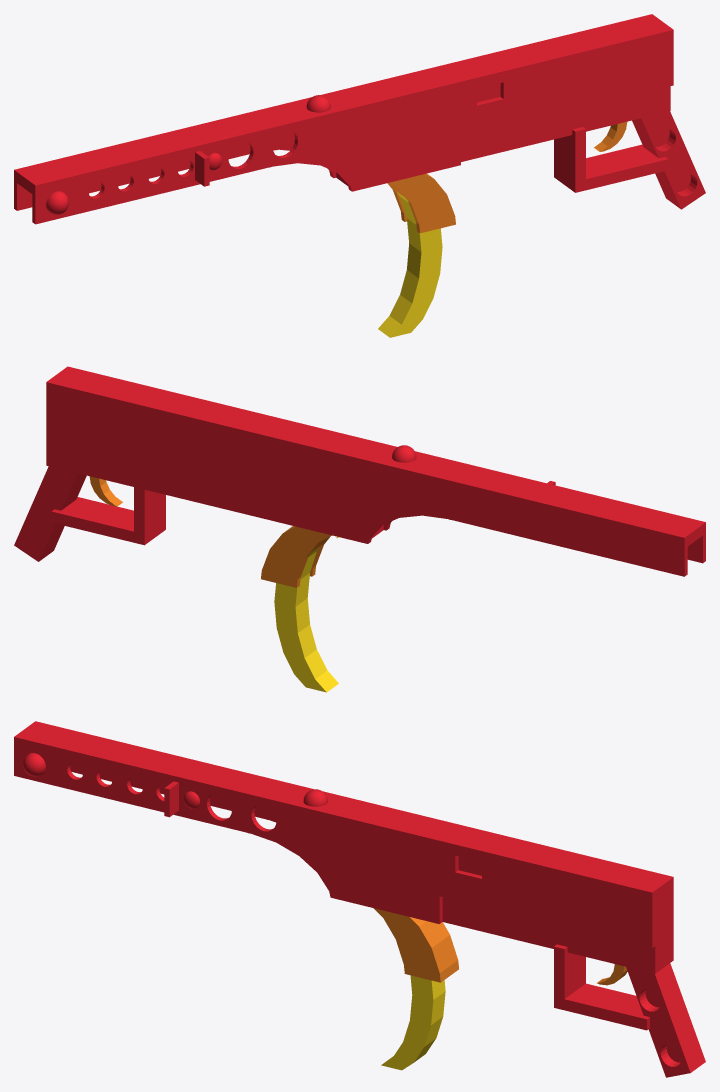
The model's file is Gun.obj.
3 views of the same model, one above another, from view 1: azimuth 30°, elevation 25°; view 2: azimuth 150°, elevation 25°; view 3: azimuth 330°, elevation 25° (orthographic).
Parts seen in each view (by area): view 1: group_0_15277357, group_0_16768282, group_0_16089887; view 2: group_0_15277357, group_0_16768282, group_0_16089887; view 3: group_0_15277357, group_0_16089887, group_0_16768282.
Part boxes in pixels (x1,y1,x2,y2): group_0_15277357: [14, 14, 705, 224]; group_0_16768282: [378, 192, 442, 337]; group_0_16089887: [387, 121, 627, 233]; group_0_15277357: [14, 366, 705, 576]; group_0_16768282: [274, 536, 338, 692]; group_0_16089887: [89, 476, 334, 587]; group_0_15277357: [14, 721, 705, 1077]; group_0_16089887: [373, 908, 627, 985]; group_0_16768282: [381, 975, 445, 1070].
Bounding box in the file's own units: 127 × 46 × 10.
